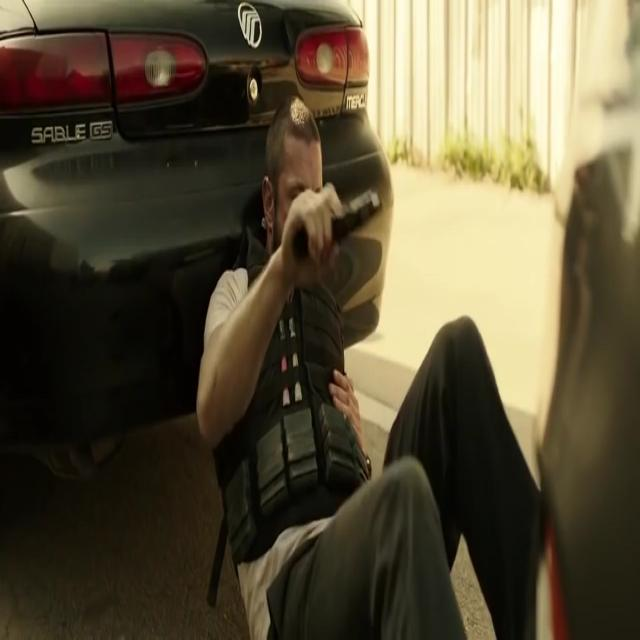Weapon: (291, 175, 399, 316)
